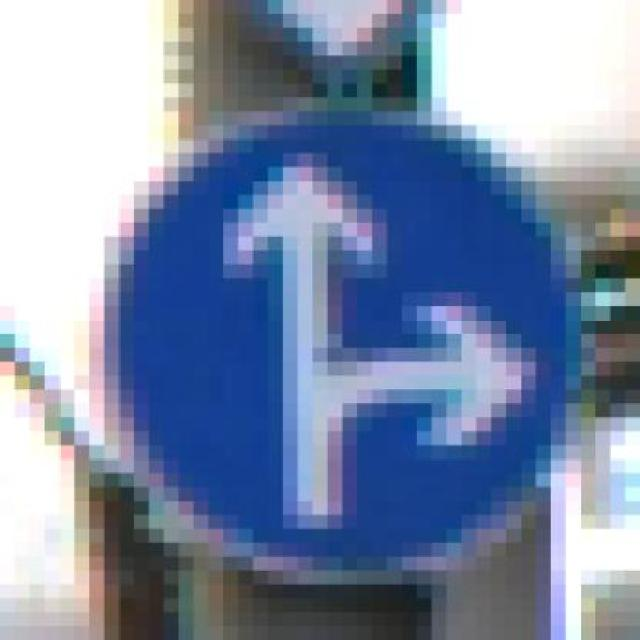Go Straight or Turn Right: (44, 97, 596, 571)
